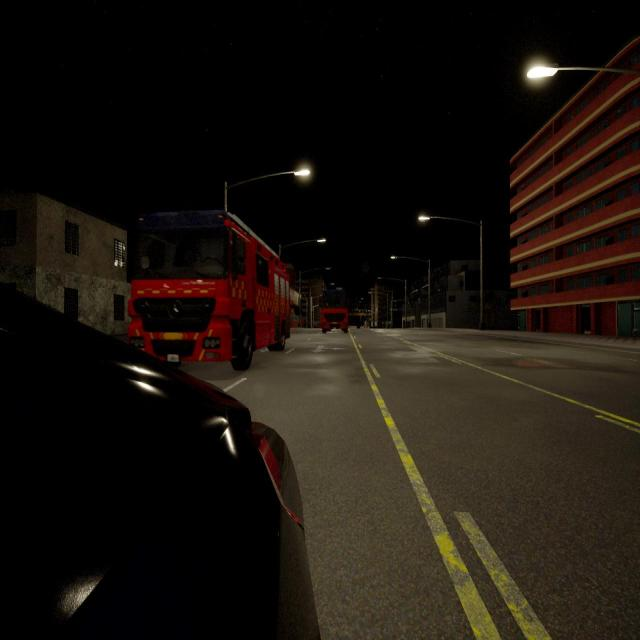Vehicle: (0, 290, 311, 638), (128, 212, 290, 370), (322, 302, 348, 333)
